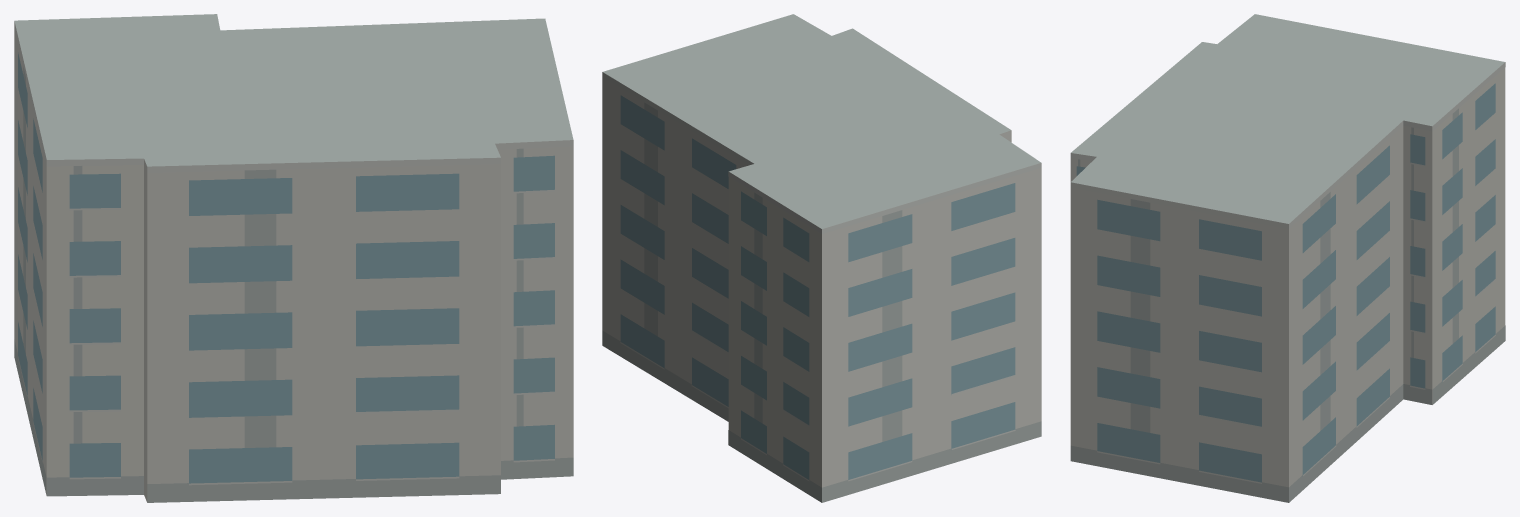
File: survey-upis-32729582.glb
3 renders of one model, left to right at view 1: azimuth 30°, elevation 25°; view 2: azimuth 150°, elevation 25°; view 3: azimuth 270°, elevation 25°, orthographic. The views are drawn at different scales.
Visible parts, largest first — view 1: survey-upis-32729582.tmp; view 2: survey-upis-32729582.tmp; view 3: survey-upis-32729582.tmp.
Boxes of the visible parts, <box> form: survey-upis-32729582.tmp: <box>14,14,573,502</box>; survey-upis-32729582.tmp: <box>602,14,1041,502</box>; survey-upis-32729582.tmp: <box>1070,14,1505,502</box>.
Bounding box in the file's own units: 21 × 13 × 18.38.
